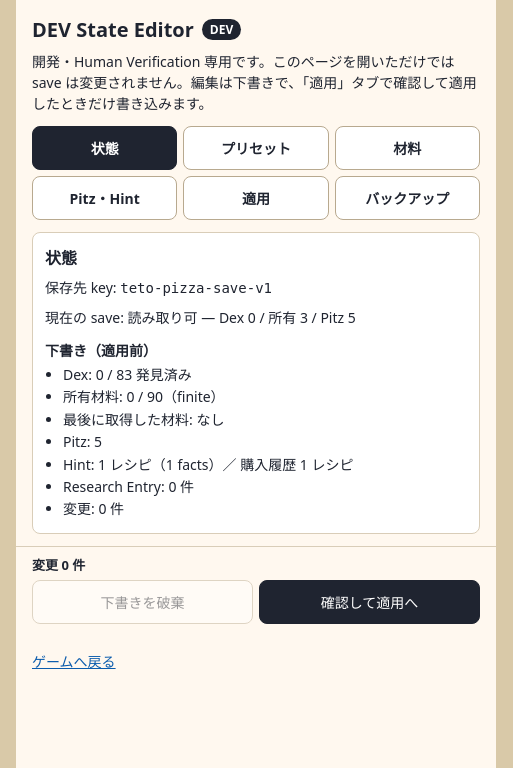
it: an unreadable save can be cleared to a fresh one through the editor (Codex P2) › a readable save with no change still has nothing to apply
The width and height of the screenshot is (513, 768).
What coordinates should you click on to do the following:
click the tab "適用"
I would click on:
 (256, 198)
Its box is x1=183 y1=176 x2=329 y2=220.
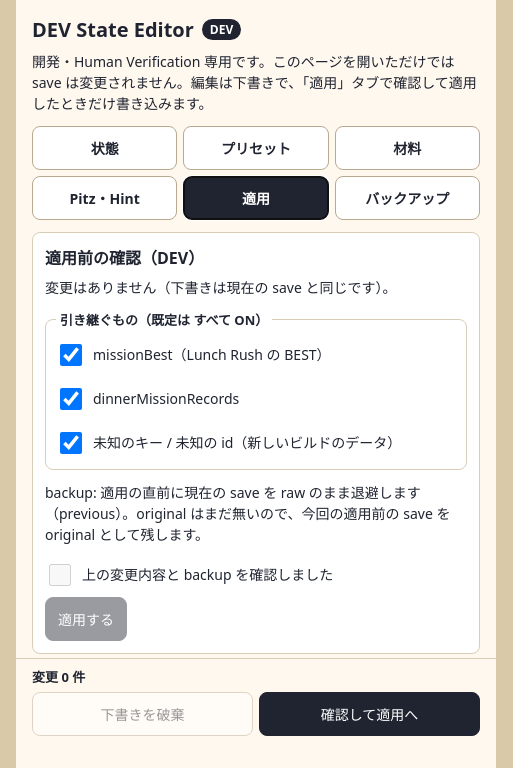
expect the checkbox labelled "上の変更内容と backup を確認しました" is disabled: met, box x1=49 y1=564 x2=71 y2=586
